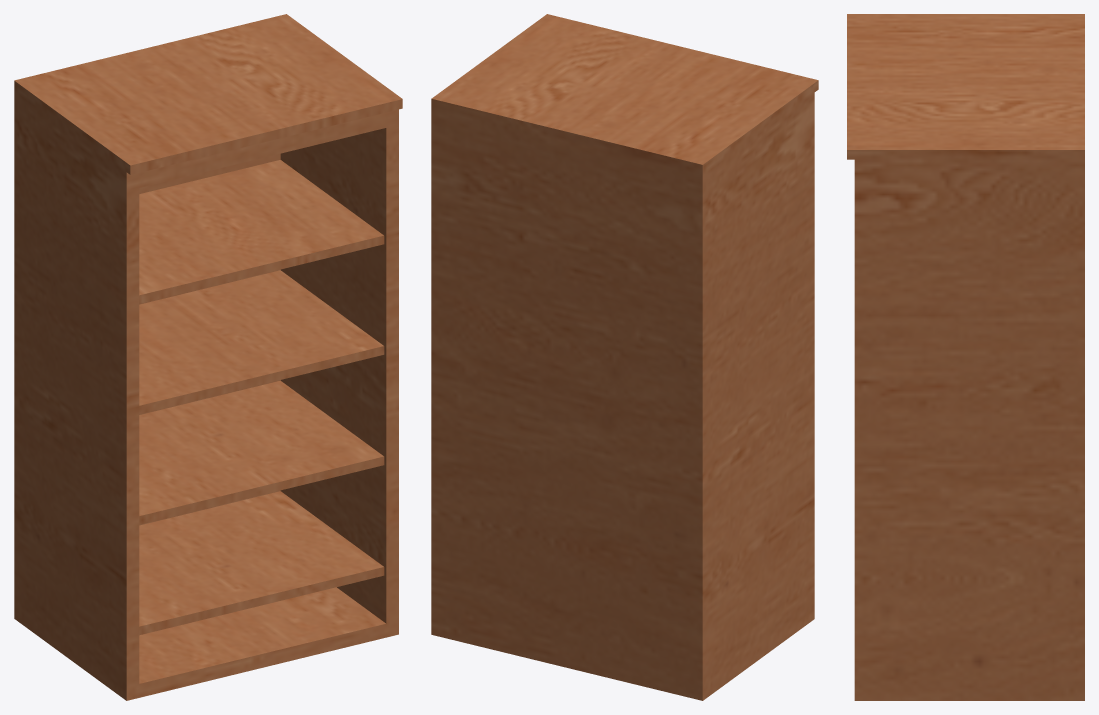
Rendered from Closet35.fbx.
3 views of the same model, side by side, from view 1: azimuth 30°, elevation 25°; view 2: azimuth 150°, elevation 25°; view 3: azimuth 270°, elevation 25° (orthographic). The views are drawn at different scales.
Visible parts, largest first — view 1: Closet35; view 2: Closet35; view 3: Closet35.
Part boxes in pixels (box(x1,y1,x2,y2)): Closet35: box(14, 14, 402, 700); Closet35: box(431, 14, 818, 700); Closet35: box(847, 14, 1084, 700).
Size of the model in its own units: 62.2 by 117 by 45.95.
